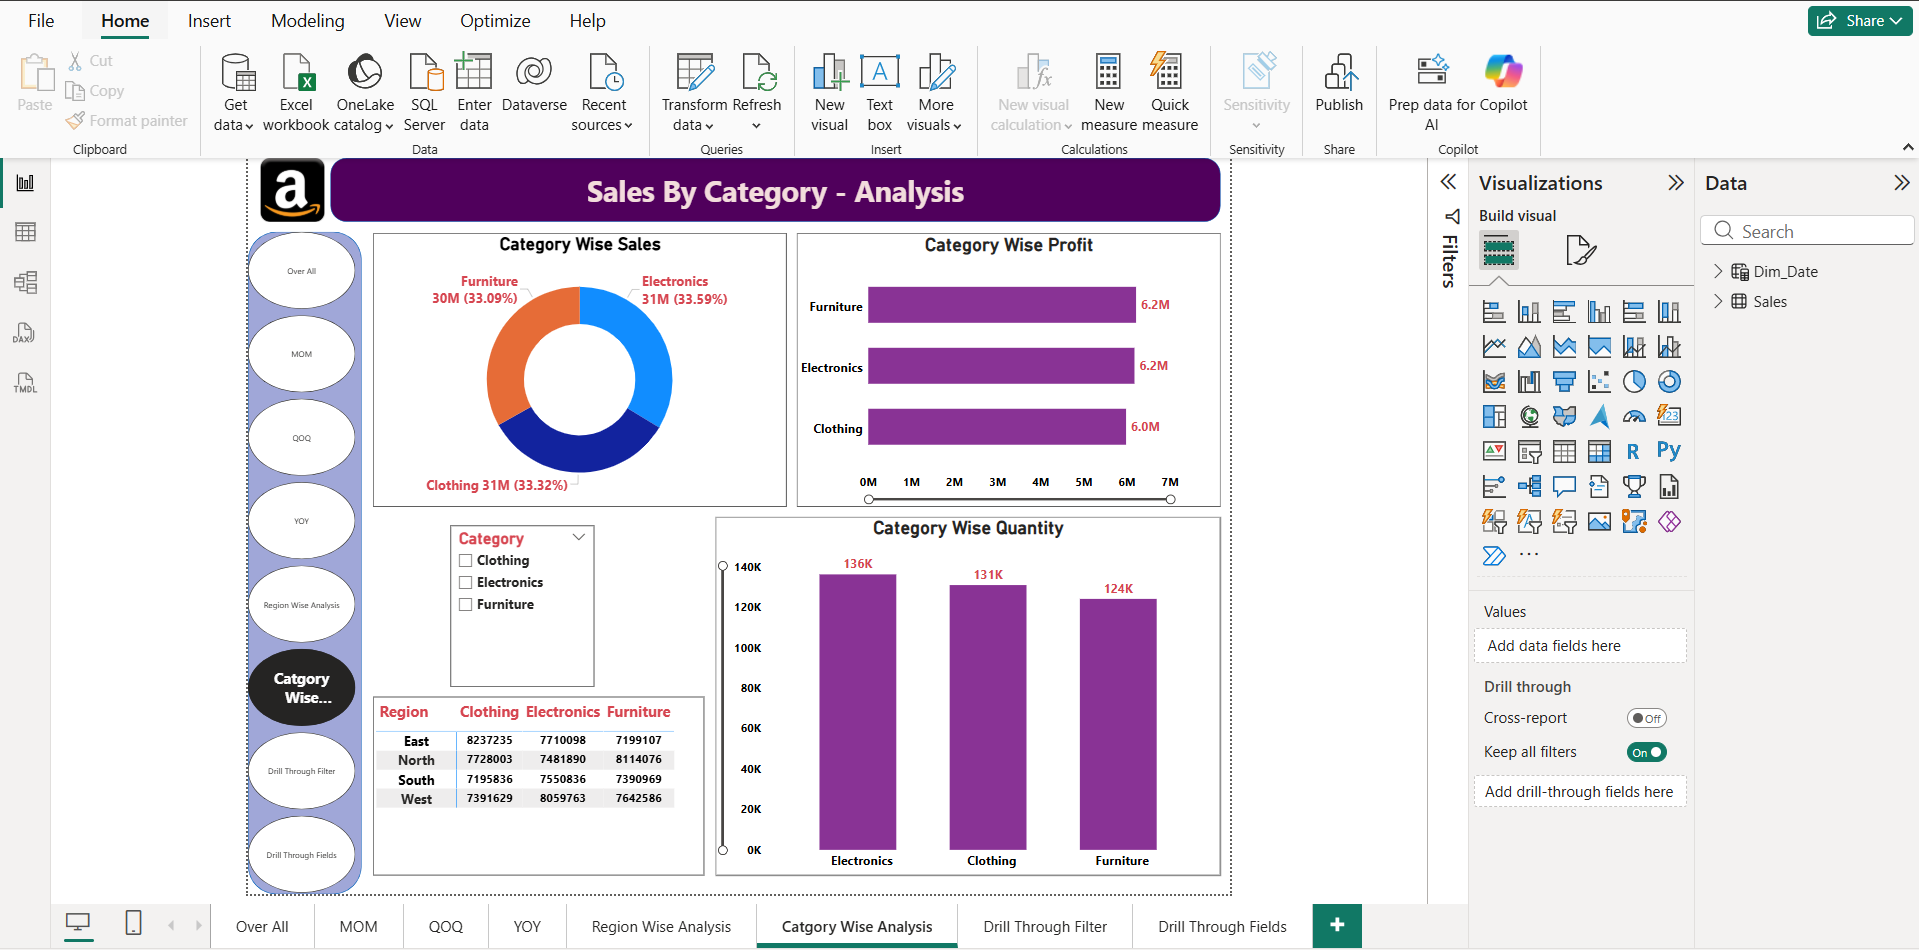

Layout of this report page (visuals, bound fields, positions):
{"tool":"powerbi","page":{"name":"Catgory Wise Analysis","canvas":[1600,1200],"ordinal":5},"visuals":[{"type":"image","box":[10.2,0,124.3,103.9],"z":0},{"type":"shape","box":[134.5,0,1451.1,103.9],"z":1000},{"type":"shape","box":[0,119.8,185.5,1080.2],"z":2000},{"type":"donutChart","title":"Category Wise Sales","fields":{"Y":["Sales.A_Total_Sales"],"Category":["Sales.Category"]},"box":[203.8,122.3,674.6,446.3],"z":3000},{"type":"barChart","title":"Category Wise Profit","fields":{"Y":["Sales.A_Total_Profit"],"Category":["Sales.Category"]},"box":[894.7,122.3,690.9,446.3],"z":4000},{"type":"pivotTable","fields":{"Values":["Sales.A_Total_Sales"],"Rows":["Sales.Region"],"Columns":["Sales.Category"]},"box":[203.8,878.4,540.1,291.4],"z":5000},{"type":"columnChart","title":"Category Wise Quantity","fields":{"Category":["Sales.Category"],"Y":["Sales.A_Total_Qty_Sold"]},"box":[762.2,584.9,823.4,584.9],"z":6000},{"type":"pageNavigator","box":[0,120.2,175.3,1080.2],"z":7000},{"type":"slicer","fields":{"Values":["Sales.Category"]},"box":[330.2,599.2,234.4,262.9],"z":8000}]}

Visuals, with their boxes on the page's 1600x1200 design canvas (x1, y1, x2, y2). These are canvas units, not pixel positions in the 1919x950 screenshot, which may show the page scaled, cropped or inside an application window:
image: 10, 0, 134, 104
shape: 134, 0, 1586, 104
shape: 0, 120, 186, 1200
"Category Wise Sales" donutChart: 204, 122, 878, 569
"Category Wise Profit" barChart: 895, 122, 1586, 569
pivotTable - Sales.A_Total_Sales x Sales.Region: 204, 878, 744, 1170
"Category Wise Quantity" columnChart: 762, 585, 1586, 1170
pageNavigator: 0, 120, 175, 1200
slicer - Sales.Category: 330, 599, 565, 862
